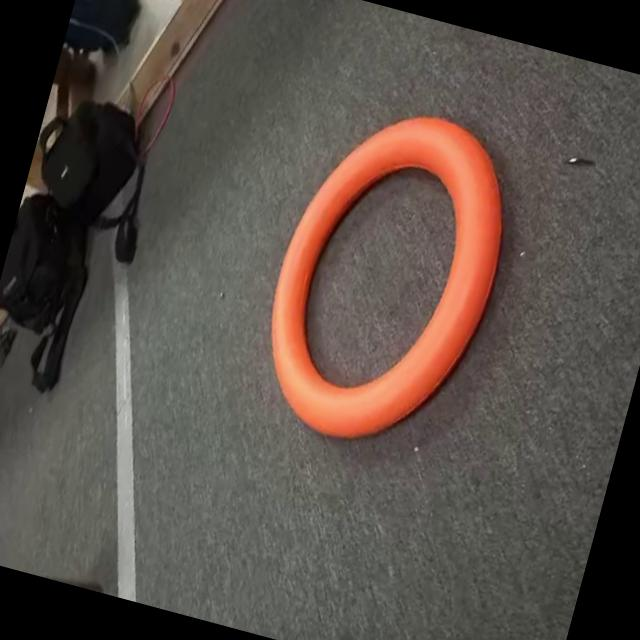note: (223, 80, 550, 478)
